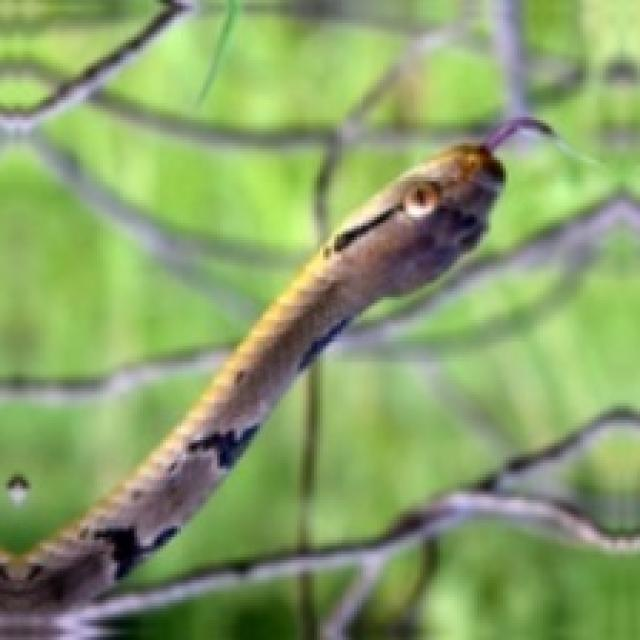dog-toothed cat snake: (0, 117, 549, 637)
